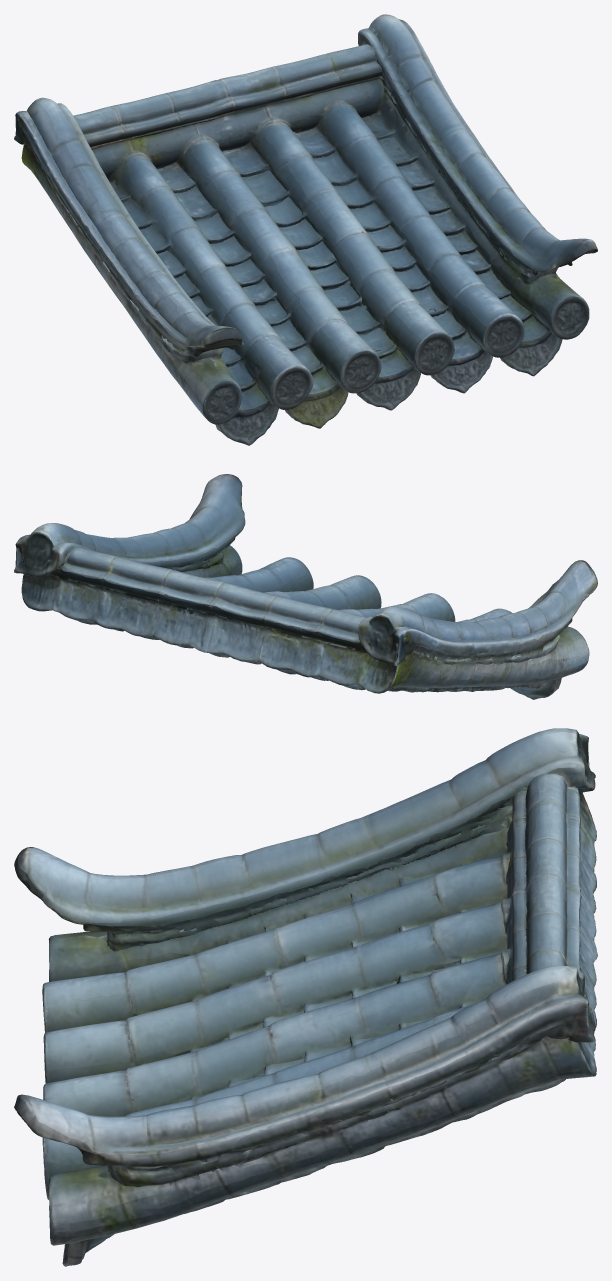
File: eave-tile_raw.glb
3 renders of one model, top to bottom at view 1: azimuth 30°, elevation 25°; view 2: azimuth 150°, elevation 25°; view 3: azimuth 270°, elevation 25°, orthographic. The views are drawn at different scales.
Visible parts, largest first — view 1: geometry_0; view 2: geometry_0; view 3: geometry_0.
Part boxes in pixels (left/top/right/bottom): geometry_0: left=14, top=14, right=597, bottom=445; geometry_0: left=14, top=474, right=597, bottom=699; geometry_0: left=14, top=728, right=597, bottom=1266.
Bounding box in the file's own units: 1.2 × 0.6578 × 1.09.
Materials: 1 (1 with a texture image).
